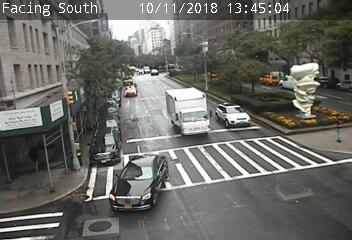car: (110, 154, 168, 210), (167, 88, 210, 136), (89, 128, 120, 164), (215, 102, 250, 128), (279, 75, 301, 91), (258, 74, 278, 87), (125, 85, 137, 97)
